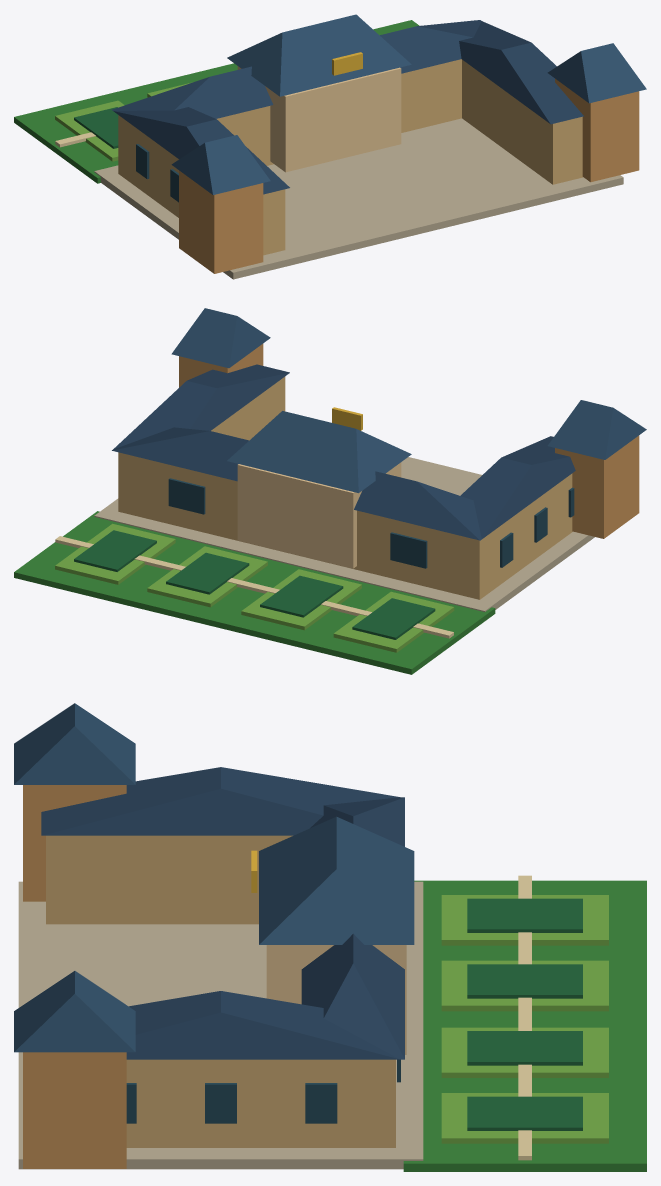
File: versailles-palace.glb
3 renders of one model, top to bottom at view 1: azimuth 30°, elevation 25°; view 2: azimuth 150°, elevation 25°; view 3: azimuth 270°, elevation 25°, orthographic. The views are drawn at different scales.
Parts seen in each view (by area): view 1: base_B8B49D, body_D3C09D, roof_53615C, roof_52605E, body_D6C19A, body_DDCBA8, landscape_6D8358, landscape_8C9E6A, landscape_536E4B, detail_6B6A5B, detail_C3A567; view 2: roof_53615C, body_D3C09D, landscape_6D8358, roof_52605E, body_DDCBA8, landscape_8C9E6A, base_B8B49D, landscape_536E4B, body_D6C19A, detail_6B6A5B, landscape_D3C5A6, detail_C3A567; view 3: body_D3C09D, roof_53615C, roof_52605E, landscape_6D8358, base_B8B49D, landscape_8C9E6A, landscape_536E4B, body_D6C19A, detail_6B6A5B, body_DDCBA8, landscape_D3C5A6.
Part boxes in pixels (left/top/right/bottom): base_B8B49D: left=94, top=118, right=623, bottom=279; body_D3C09D: left=118, top=59, right=582, bottom=255; roof_53615C: left=112, top=20, right=583, bottom=194; roof_52605E: left=171, top=14, right=646, bottom=194; body_D6C19A: left=179, top=78, right=639, bottom=273; body_DDCBA8: left=237, top=66, right=401, bottom=172; landscape_6D8358: left=14, top=20, right=419, bottom=183; landscape_8C9E6A: left=55, top=82, right=192, bottom=161; landscape_536E4B: left=74, top=107, right=118, bottom=148; detail_6B6A5B: left=136, top=144, right=178, bottom=202; detail_C3A567: left=332, top=52, right=362, bottom=75; roof_53615C: left=112, top=364, right=575, bottom=540; body_D3C09D: left=118, top=376, right=572, bottom=599; landscape_6D8358: left=14, top=511, right=495, bottom=674; roof_52605E: left=171, top=308, right=646, bottom=493; body_DDCBA8: left=237, top=462, right=401, bottom=568; landscape_8C9E6A: left=55, top=523, right=454, bottom=652; base_B8B49D: left=94, top=457, right=594, bottom=611; landscape_536E4B: left=74, top=530, right=435, bottom=639; body_D6C19A: left=179, top=344, right=639, bottom=538; detail_6B6A5B: left=168, top=478, right=574, bottom=568; landscape_D3C5A6: left=55, top=536, right=453, bottom=638; detail_C3A567: left=332, top=407, right=362, bottom=430; body_D3C09D: left=46, top=835, right=395, bottom=1147; roof_53615C: left=41, top=767, right=404, bottom=1059; roof_52605E: left=14, top=703, right=414, bottom=1052; landscape_6D8358: left=403, top=880, right=646, bottom=1171; base_B8B49D: left=18, top=881, right=423, bottom=1169; landscape_8C9E6A: left=441, top=895, right=608, bottom=1143; landscape_536E4B: left=467, top=898, right=582, bottom=1130; body_D6C19A: left=23, top=785, right=126, bottom=1168; detail_6B6A5B: left=126, top=1059, right=400, bottom=1123; body_DDCBA8: left=266, top=945, right=406, bottom=1054; landscape_D3C5A6: left=518, top=875, right=531, bottom=1160.
Size of the model in its own units: 1 by 0.2833 by 0.8667.
